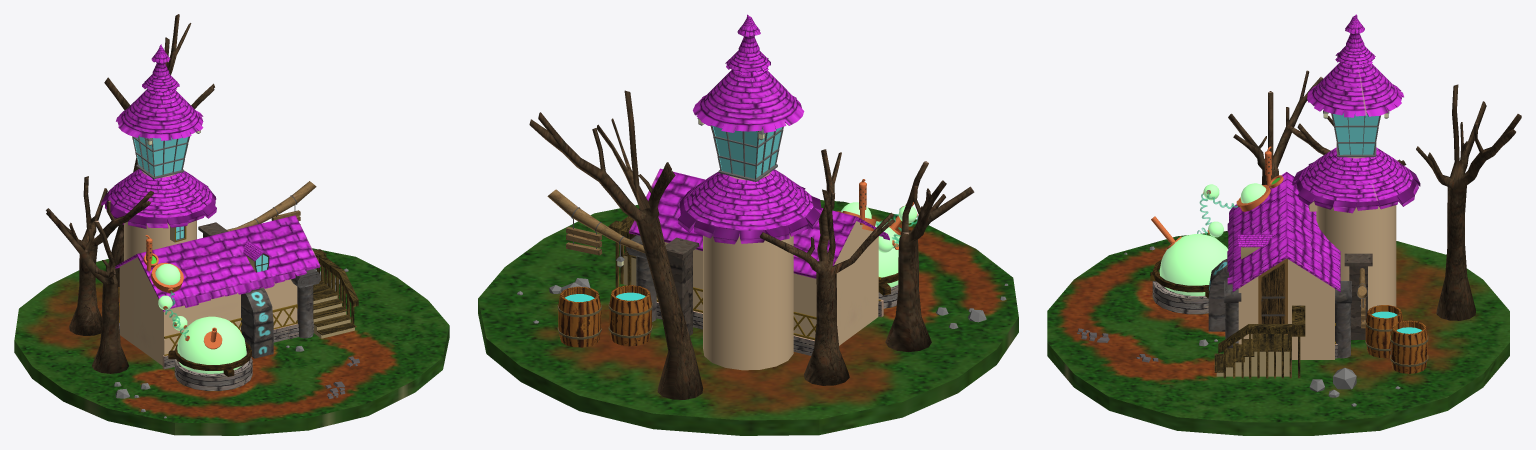
The picture shows the model from 3 angles, left to right: view 1: azimuth 30°, elevation 25°; view 2: azimuth 150°, elevation 25°; view 3: azimuth 270°, elevation 25°; orthographic projection. The views are drawn at different scales.
Parts seen in each view (by area): view 1: ground, main house block001, lower tower, Tree 1, Tree 2, glass storage, side block, main stairs, Tree 3, well, stair handle, pillar 2 (+8 smaller); view 2: ground, lower tower, main house block001, Tree 3, Tree 2, Tree 1, Barrel 1, barrel 2, gargoyle stand, wood pole, stair handle, pillar 003 (+5 smaller); view 3: ground, lower tower, main house block001, Tree 3, glass storage, stair handle, main stairs, Tree 1, Barrel 1, main door, barrel 2, gargoyle stand (+9 smaller).
Boxes of the visible parts, box(x1,y1,x2,y2) form: ground: box(14, 248, 449, 435); main house block001: box(115, 215, 320, 365); lower tower: box(101, 89, 216, 260); Tree 1: box(46, 208, 128, 373); Tree 2: box(59, 176, 153, 335); glass storage: box(177, 316, 246, 373); side block: box(241, 287, 273, 358); main stairs: box(313, 281, 356, 338); Tree 3: box(104, 14, 214, 286); well: box(174, 352, 252, 390); stair handle: box(313, 249, 358, 323); pillar 2: box(291, 269, 320, 338); ground: box(478, 200, 1018, 435); lower tower: box(678, 70, 821, 370); main house block001: box(629, 168, 889, 345); Tree 3: box(529, 90, 703, 399); Tree 2: box(759, 149, 894, 385); Tree 1: box(885, 161, 974, 351); Barrel 1: box(557, 286, 601, 347); barrel 2: box(608, 285, 652, 346); gargoyle stand: box(665, 237, 698, 335); wood pole: box(547, 189, 645, 253); stair handle: box(608, 208, 639, 287); pillar 003: box(626, 235, 656, 321); ground: box(1047, 231, 1509, 435); lower tower: box(1292, 62, 1420, 310); main house block001: box(1227, 172, 1340, 359); Tree 3: box(1416, 84, 1521, 320); glass storage: box(1159, 234, 1228, 296); stair handle: box(1218, 305, 1305, 378); main stairs: box(1214, 334, 1291, 376); Tree 1: box(1228, 70, 1323, 184); Barrel 1: box(1390, 320, 1428, 373); main door: box(1258, 258, 1287, 334); barrel 2: box(1365, 305, 1403, 357); gargoyle stand: box(1344, 253, 1372, 339).
Size of the model in its own units: 2.75 by 2.05 by 2.86.
Materials: 14 (11 with a texture image).
